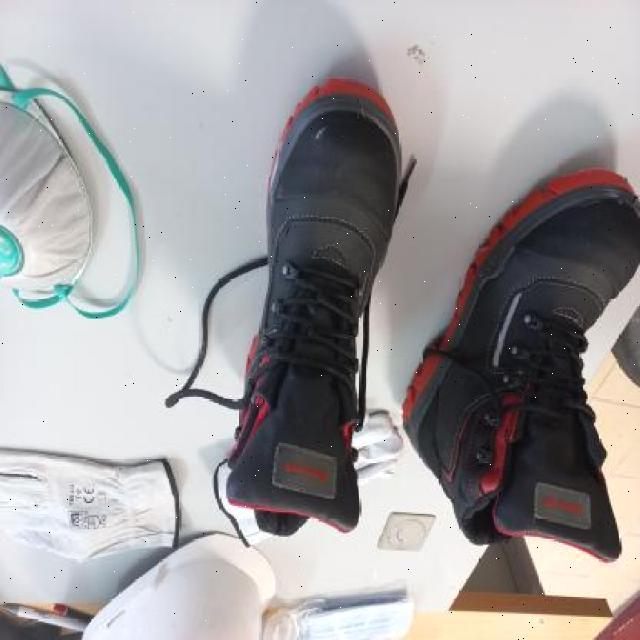Boots: (395, 165, 640, 550), (199, 80, 401, 522)
Helmet: (66, 543, 277, 640)
